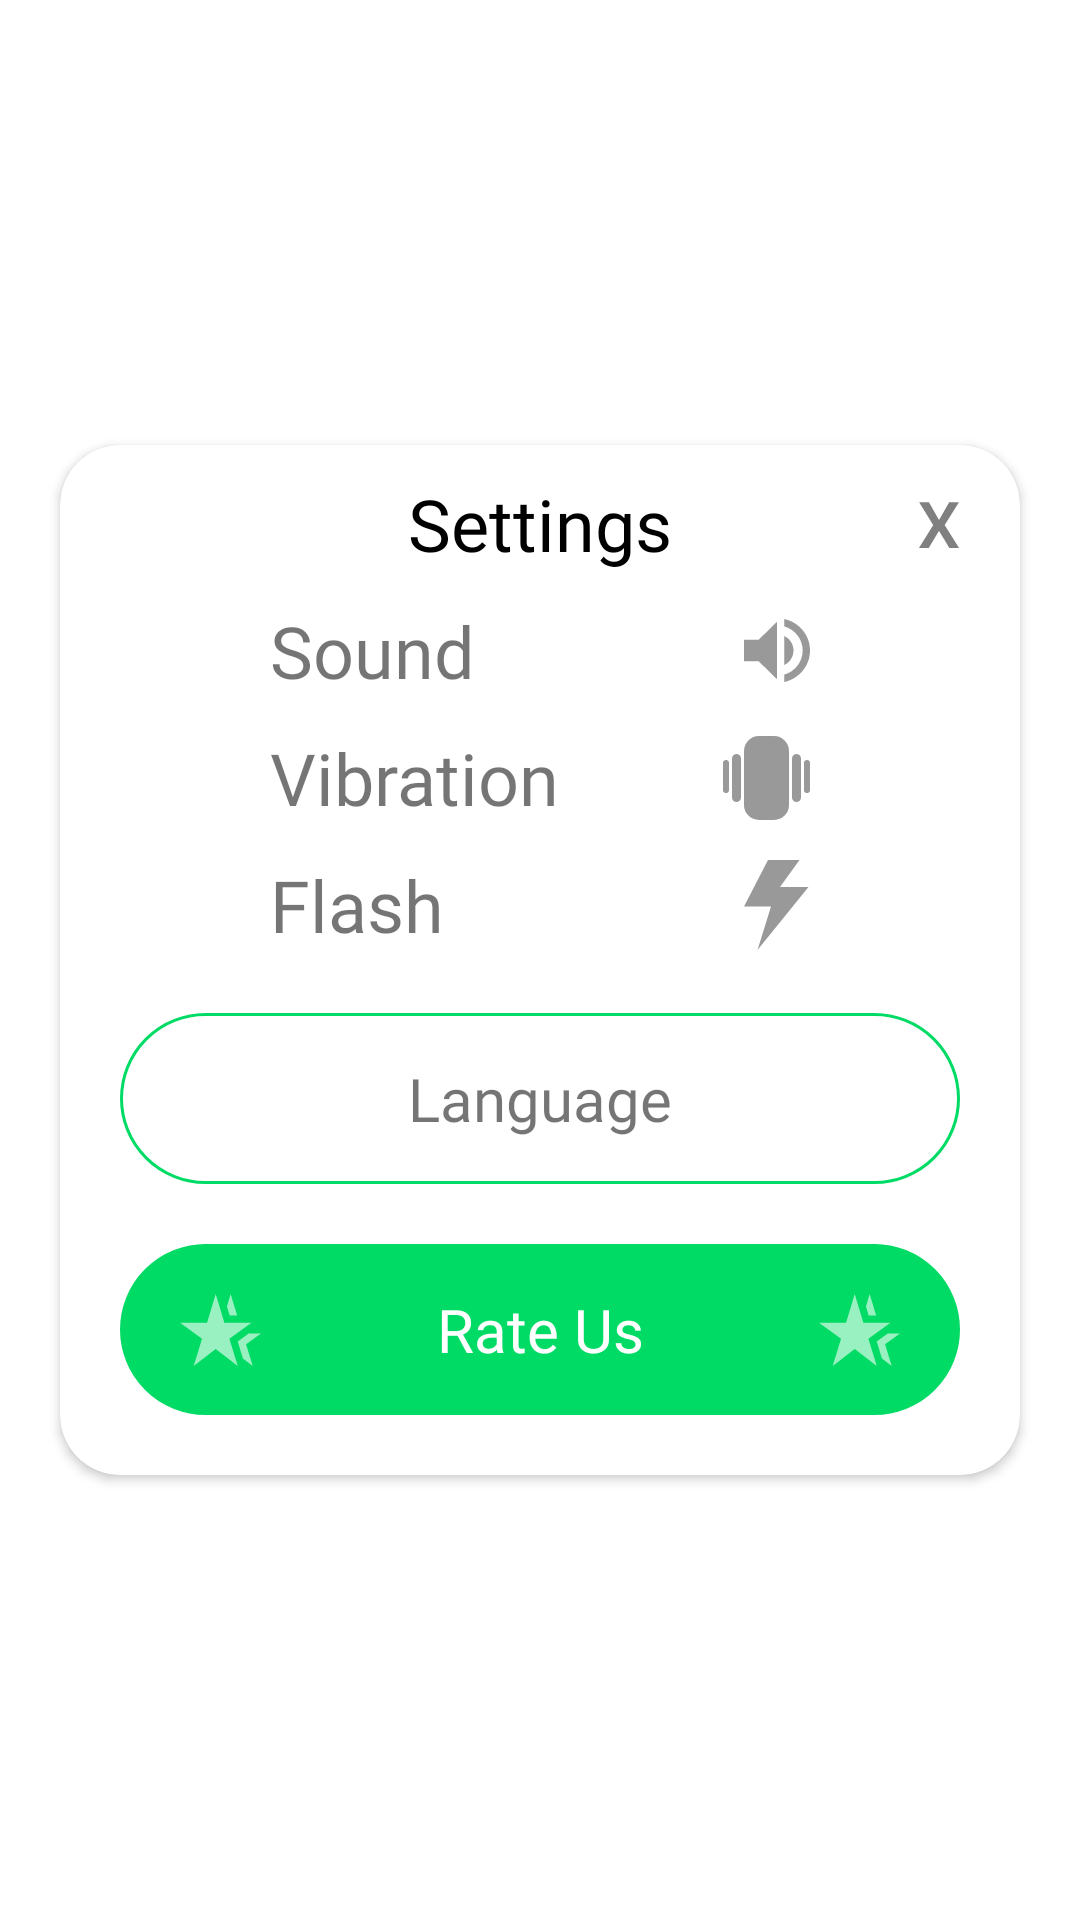

Icon bounding boxes for this 1080px x 1920px phone screenshot, format (x1, y1, x2, y2):
cross: (919, 502, 959, 548)
flash: (744, 860, 808, 949)
sound: (744, 619, 810, 682)
stars: (180, 1294, 261, 1366), (819, 1294, 900, 1366)
vibration: (723, 736, 810, 820)
